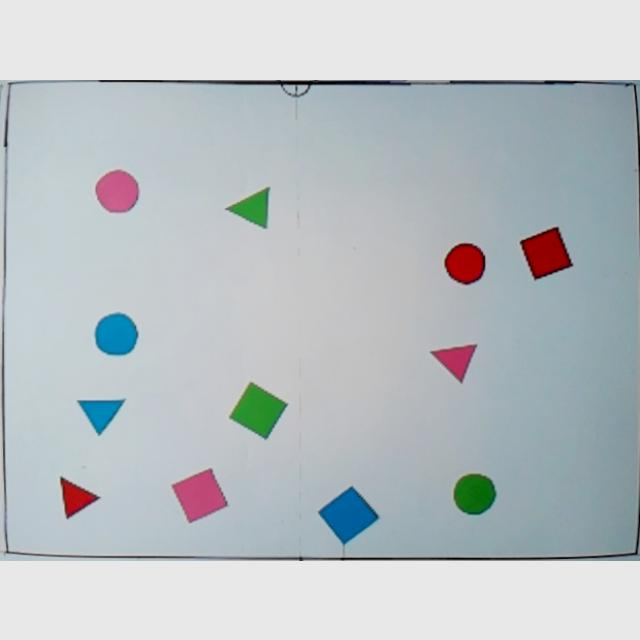blueCircle: (92, 310, 140, 356)
blueSquare: (318, 484, 382, 546)
blueTriangle: (75, 396, 128, 436)
greenCircle: (452, 470, 498, 516)
greenSquare: (228, 380, 290, 440)
greenTriangle: (222, 182, 274, 232)
pinkCircle: (94, 165, 142, 212)
pinkSquare: (170, 466, 230, 524)
pinkTriangle: (428, 341, 480, 385)
redCircle: (443, 239, 487, 287)
redSquare: (519, 224, 575, 282)
redTriangle: (56, 472, 100, 520)
